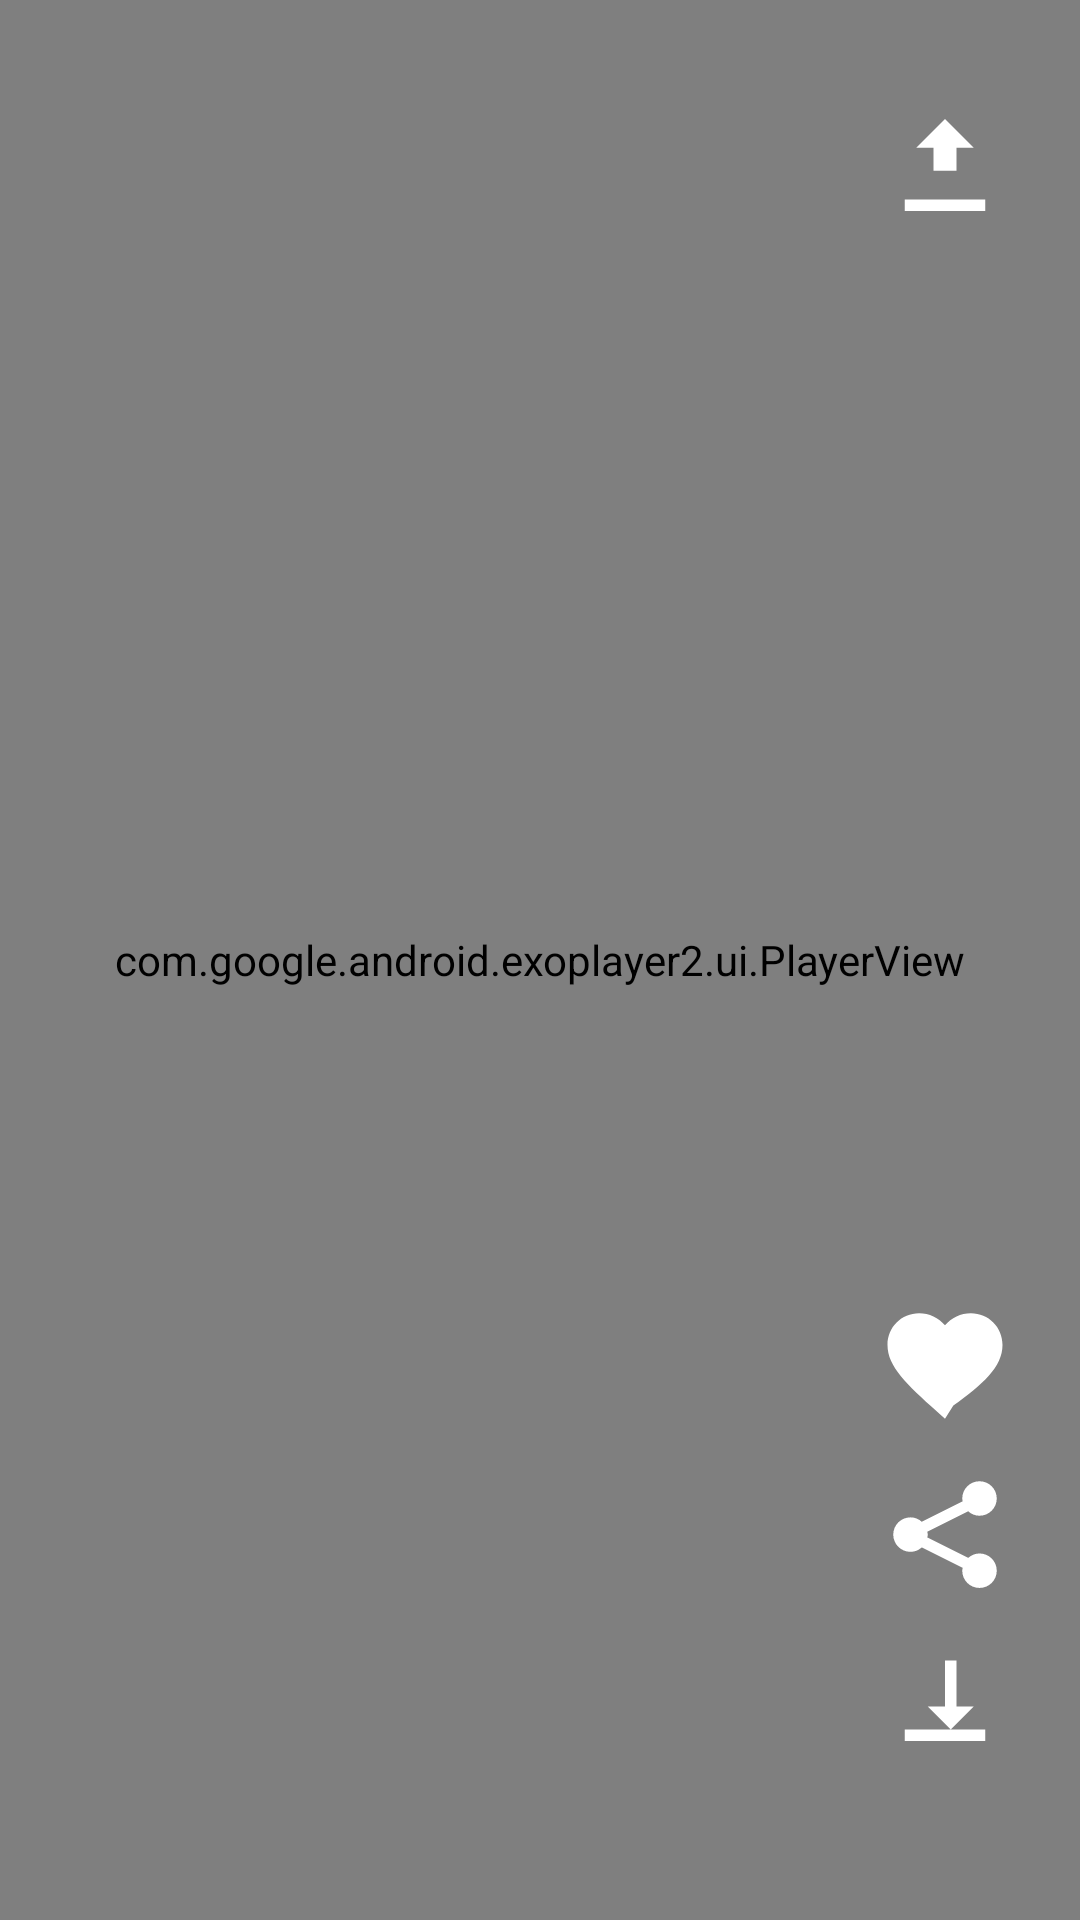

Icons on this 1080 × 1920 Android screen, each with the point to tap as point (x, y):
download: point (945, 1700)
heart: point (945, 1366)
share: point (945, 1534)
upload: point (945, 165)
